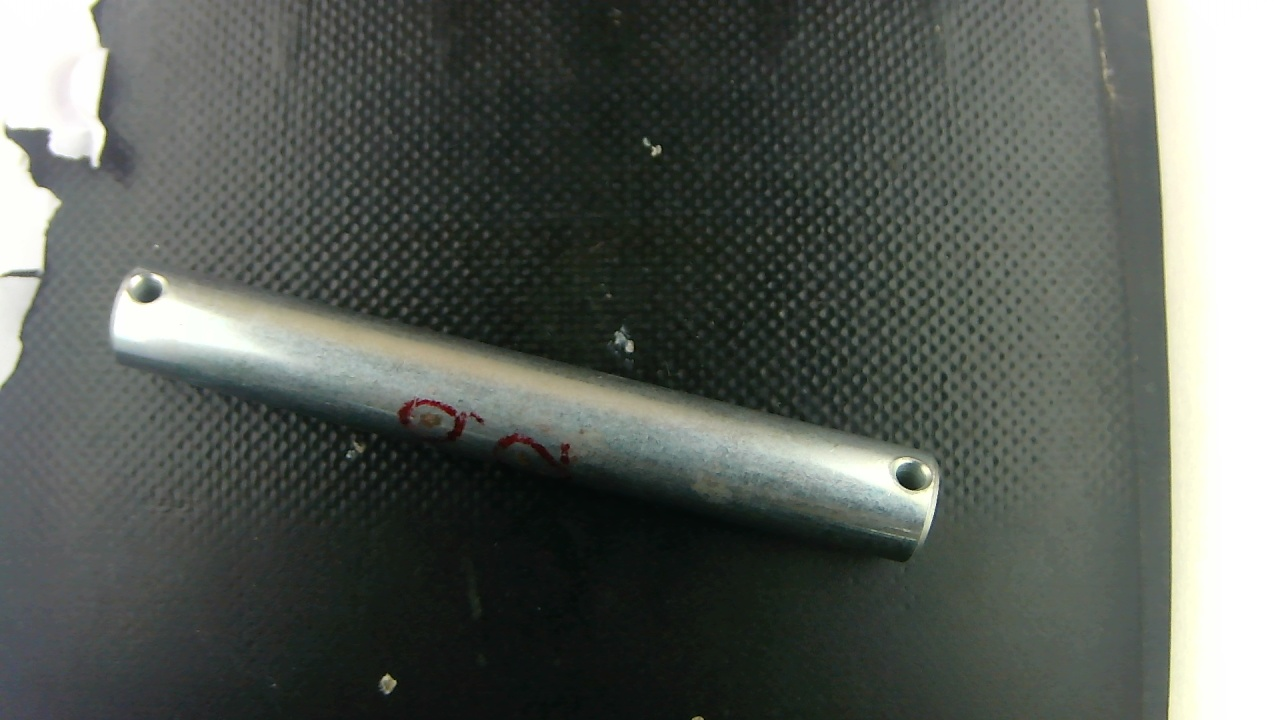rust_pin: (412, 404, 447, 430)
